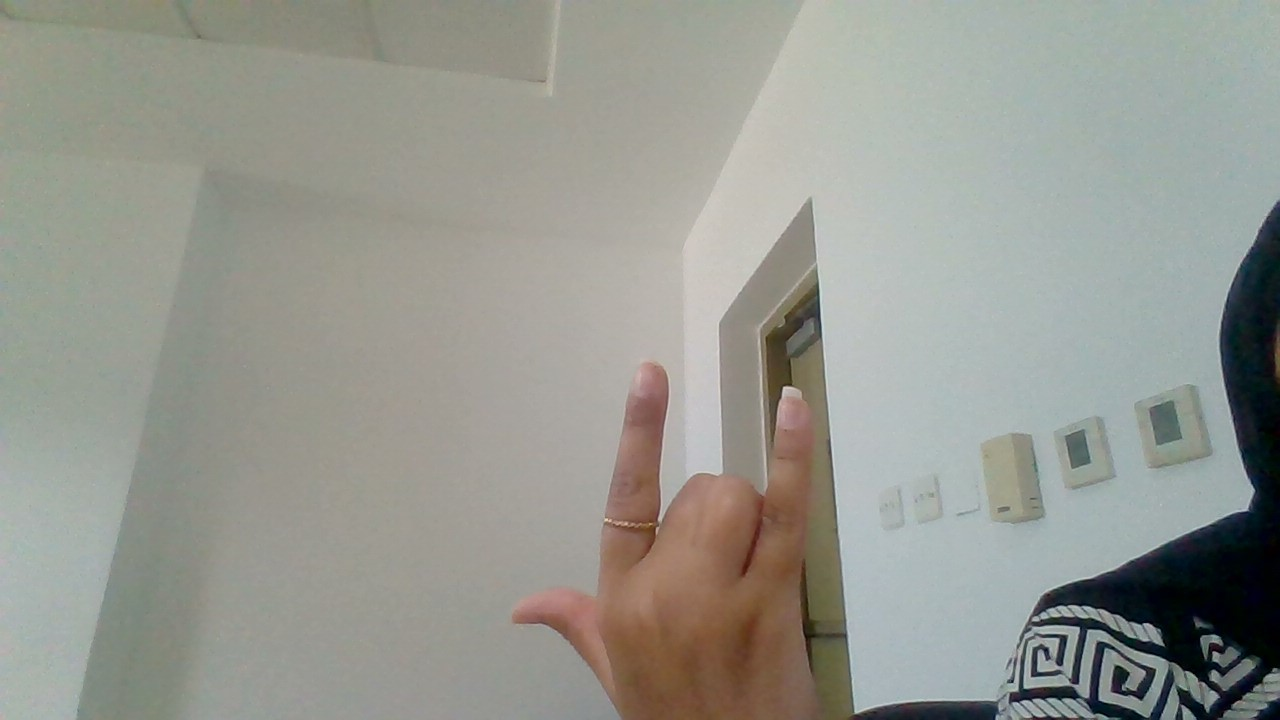love: (495, 332, 861, 720)
